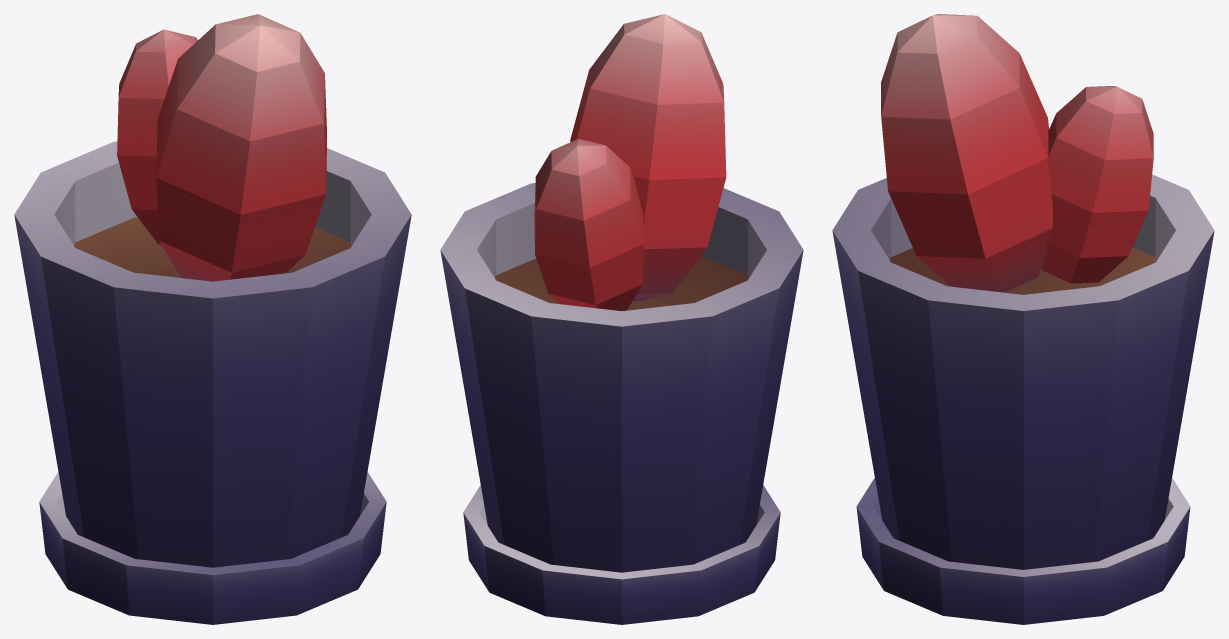
File: SM_plant_cactus.fbx
3 views of the same model, side by side, from view 1: azimuth 30°, elevation 25°; view 2: azimuth 150°, elevation 25°; view 3: azimuth 270°, elevation 25° (orthographic). The views are drawn at different scales.
Visible parts, largest first — view 1: pot, bigCactus, plate, smallCactus; view 2: pot, bigCactus, plate, smallCactus; view 3: pot, bigCactus, plate, smallCactus.
Boxes of the visible parts, x1,y1,x2,y2 form: pot: (14,141,411,567); bigCactus: (156,14,327,281); plate: (39,472,386,624); smallCactus: (117,29,197,245); pot: (440,183,803,572); bigCactus: (570,14,726,301); plate: (463,485,780,624); smallCactus: (534,138,643,310); pot: (832,174,1214,569); bigCactus: (881,14,1052,292); plate: (856,478,1190,624); smallCactus: (1041,86,1153,283).
Size of the model in its own units: 110 by 172 by 110.
